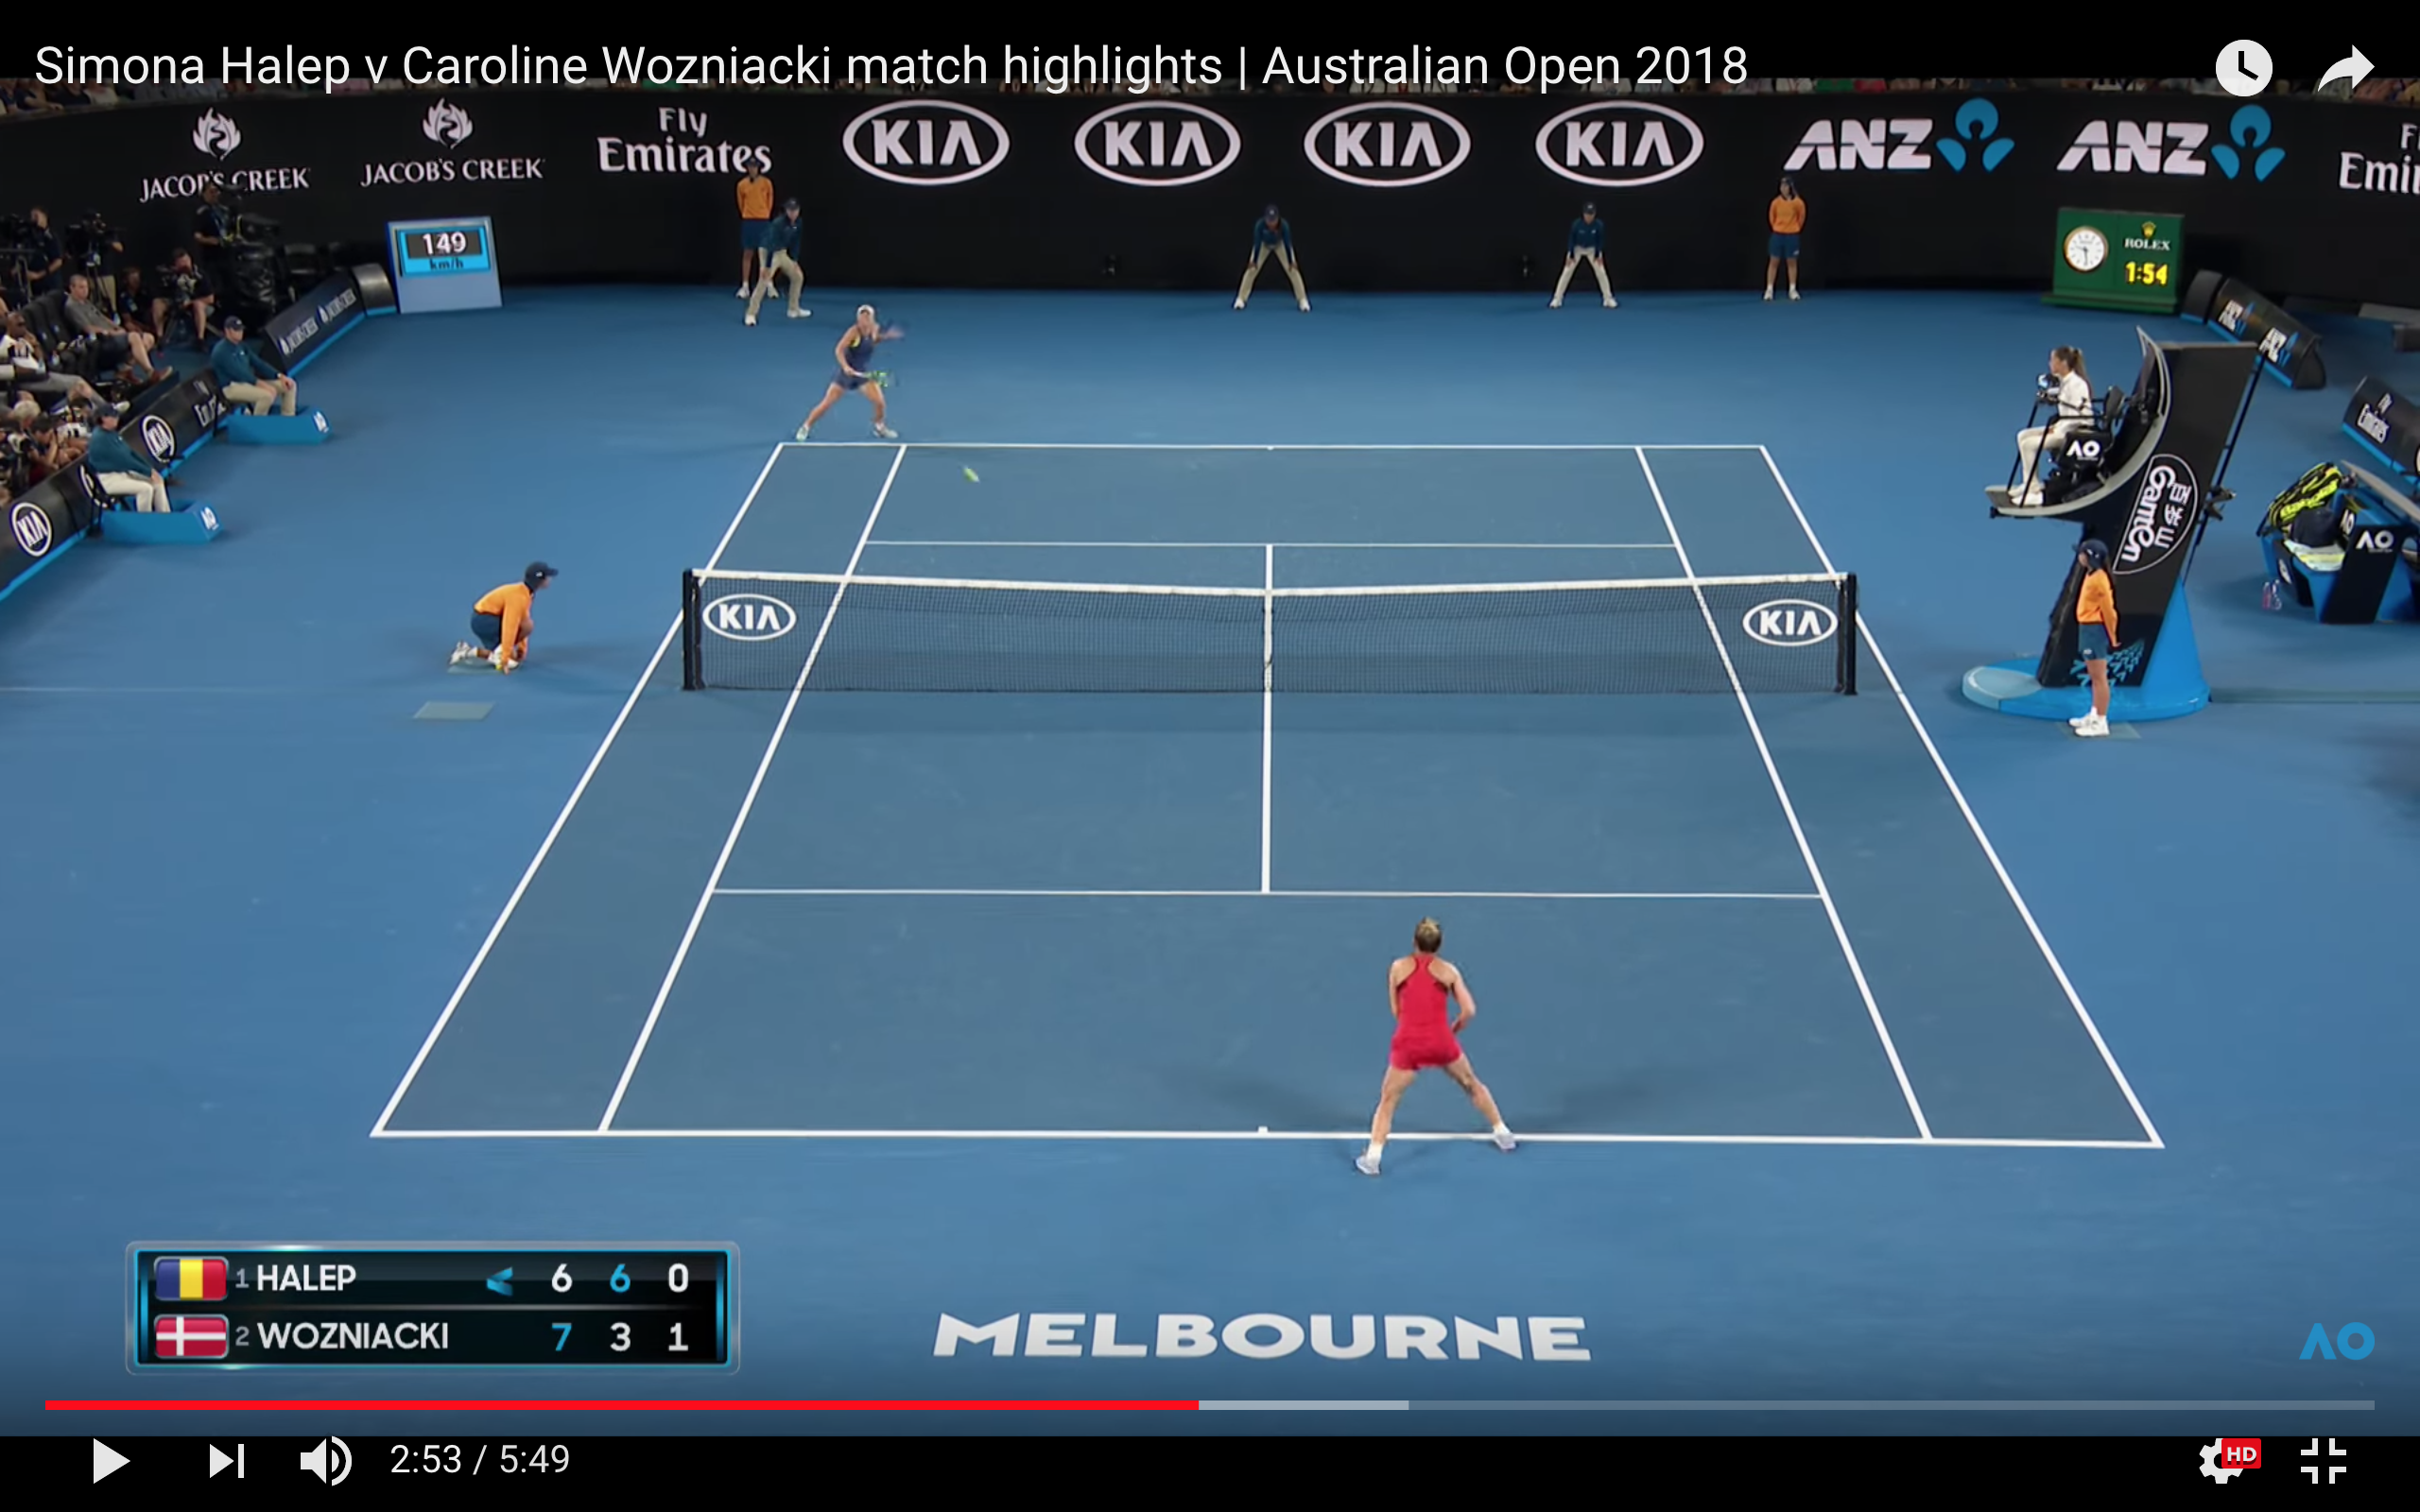tennis ball: (957, 464, 989, 490)
tennis player: (1353, 914, 1522, 1188), (795, 294, 909, 446)
